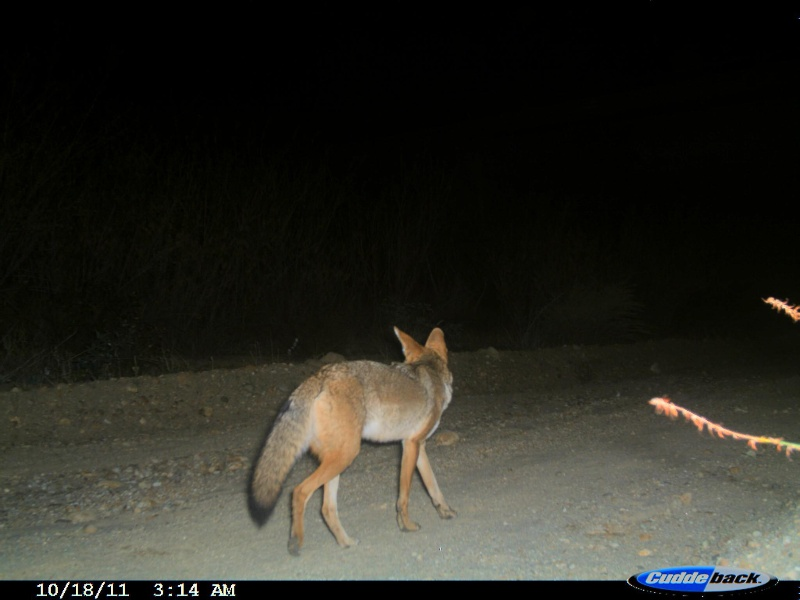coyote: (251, 323, 458, 560)
